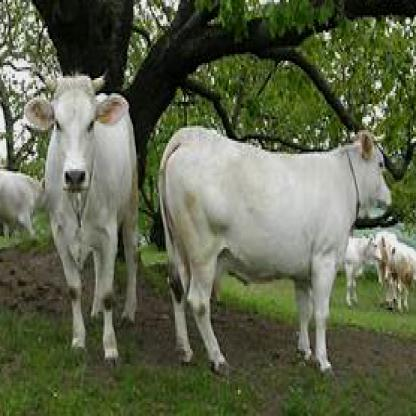cow: (157, 126, 394, 377), (23, 63, 139, 375), (346, 234, 383, 303)
